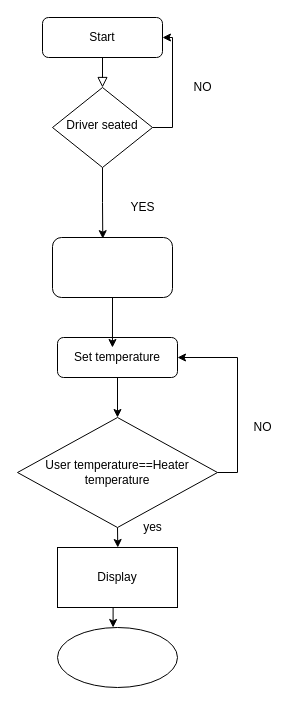
This 295x705 diagram has some shape labels left out. The shapes that lost their labels are listed below. From the top down, each one's centre as x and y in pixels, then its label:
At point (112, 267): "heater on".
At point (117, 657): "End".
